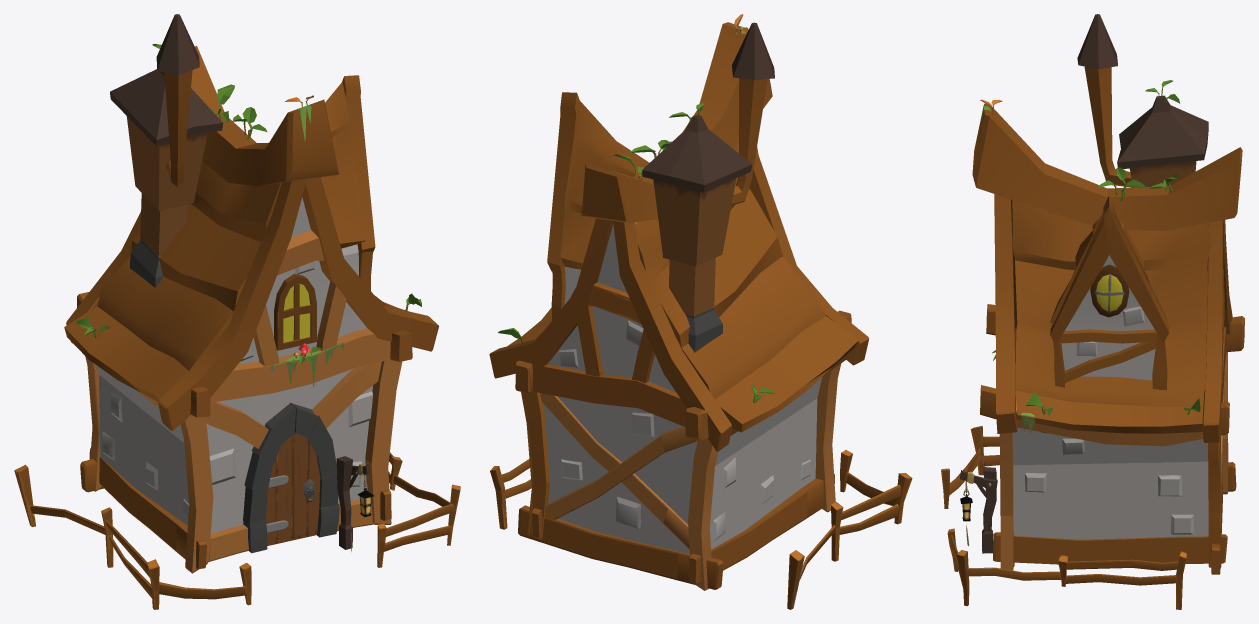
File: Wooden_Cottage.fbx
3 renders of one model, left to right at view 1: azimuth 30°, elevation 25°; view 2: azimuth 150°, elevation 25°; view 3: azimuth 270°, elevation 25°, orthographic. The views are drawn at different scales.
Parts seen in each view (by area): view 1: Object_4; view 2: Object_4; view 3: Object_4.
Boxes of the visible parts, left/top/right/bottom form: Object_4: left=14, top=14, right=460, bottom=609; Object_4: left=489, top=14, right=912, bottom=609; Object_4: left=941, top=14, right=1244, bottom=609.
Bounding box in the file's own units: 6195 × 9643 × 5341.
Materials: 5 (1 with a texture image).
